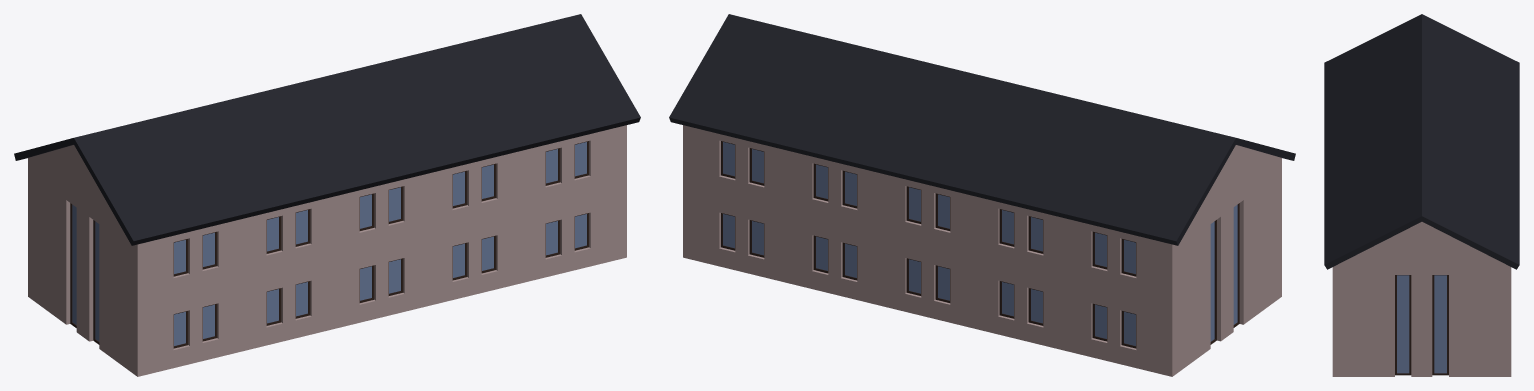
File: Station_02.fbx
3 views of the same model, side by side, from view 1: azimuth 30°, elevation 25°; view 2: azimuth 150°, elevation 25°; view 3: azimuth 270°, elevation 25° (orthographic). The views are drawn at different scales.
Visible parts, largest first — view 1: Station_02; view 2: Station_02; view 3: Station_02.
Part boxes in pixels (box(x1,y1,x2,y2)): Station_02: box(14, 14, 640, 376); Station_02: box(669, 14, 1295, 376); Station_02: box(1324, 14, 1519, 376).
Size of the model in its own units: 25.54 by 9.69 by 10.43.
